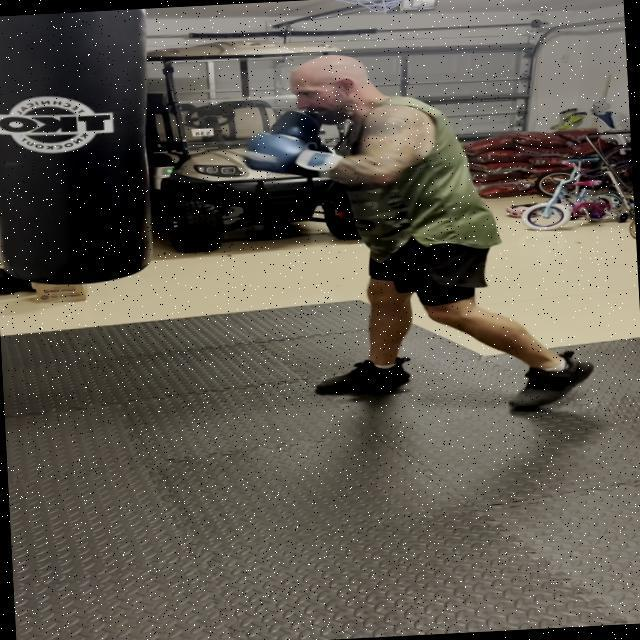bag: (0, 8, 166, 298)
cross: (230, 41, 483, 203)
